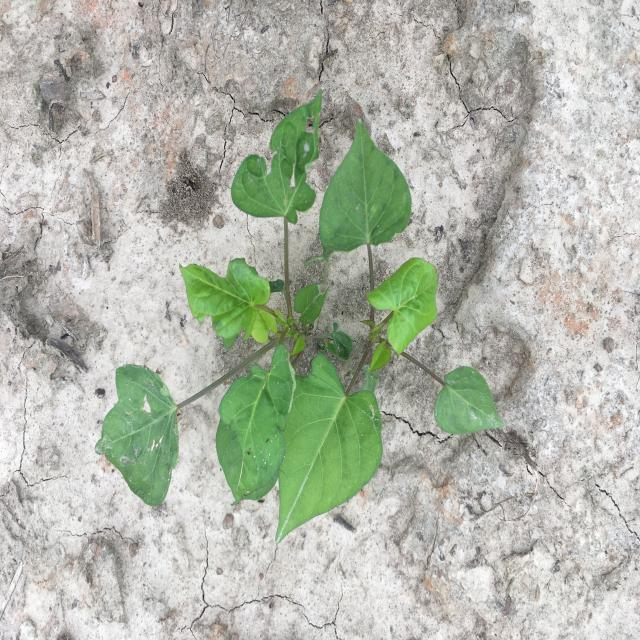MorningGlory: (94, 89, 353, 508), (275, 119, 505, 548)
